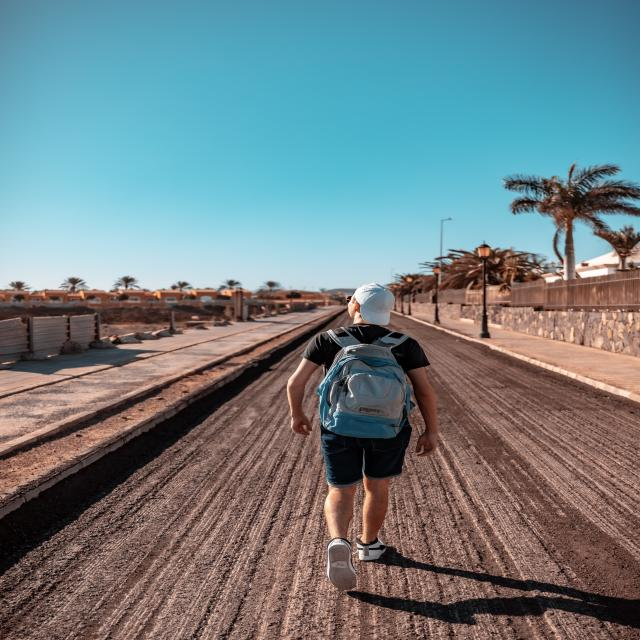backpack: (316, 326, 414, 444)
